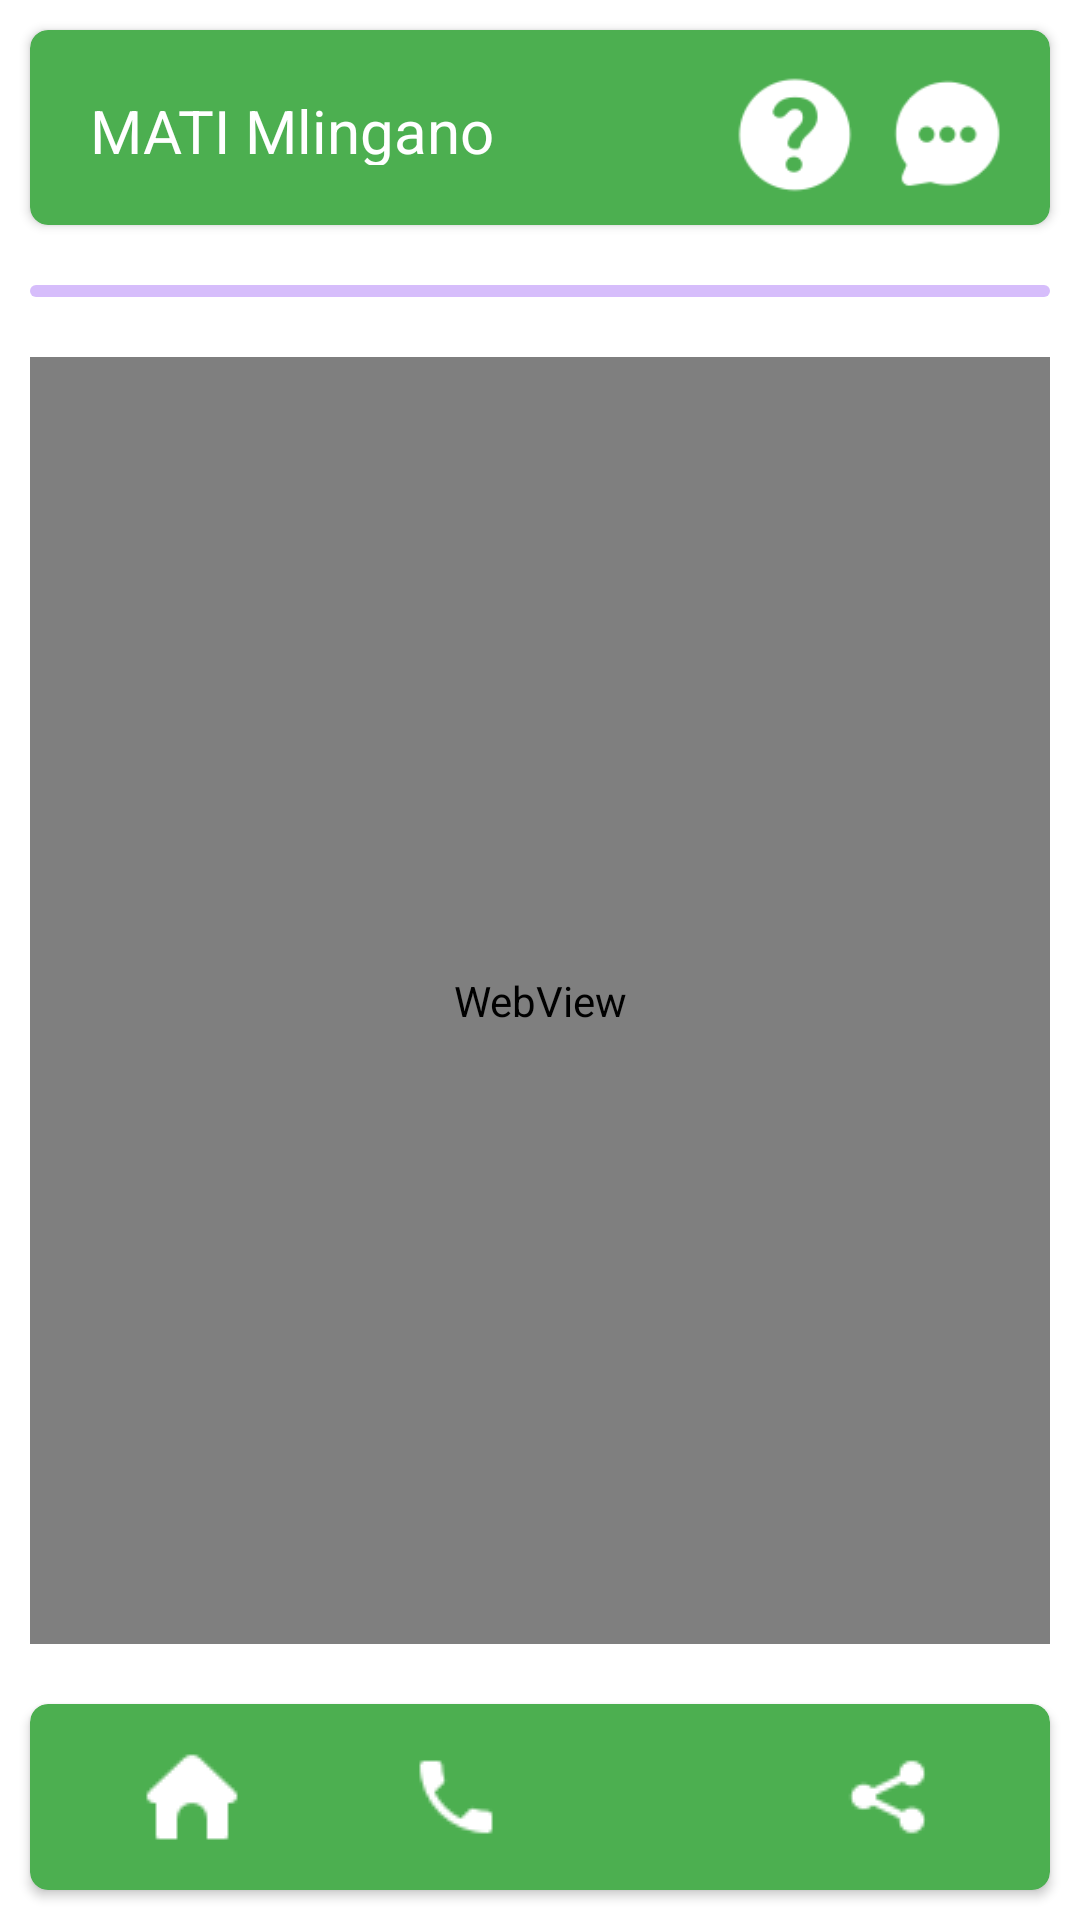

Icon bounding boxes for this 1080px x 1920px phone screenshot, format (x1, y1, x2, y2):
calls: (419, 1760, 493, 1834)
homes: (146, 1754, 238, 1840)
mchat: (895, 81, 1000, 186)
shares: (850, 1760, 925, 1834)
